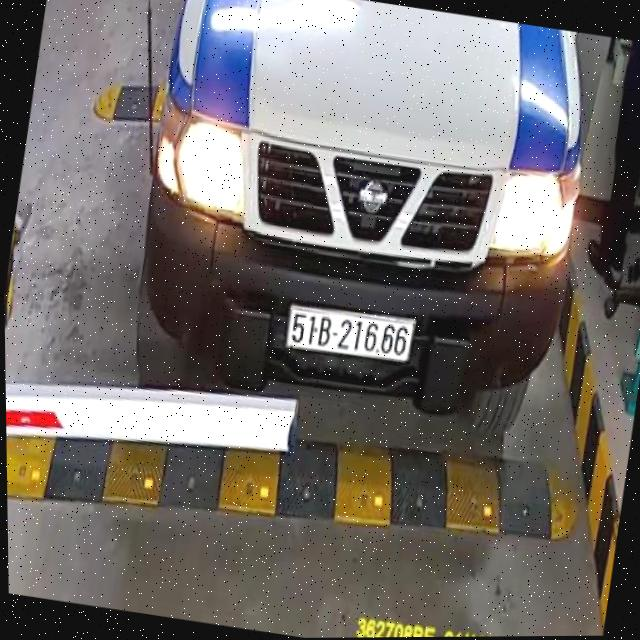car: (98, 0, 619, 470)
plate: (274, 294, 425, 370)
